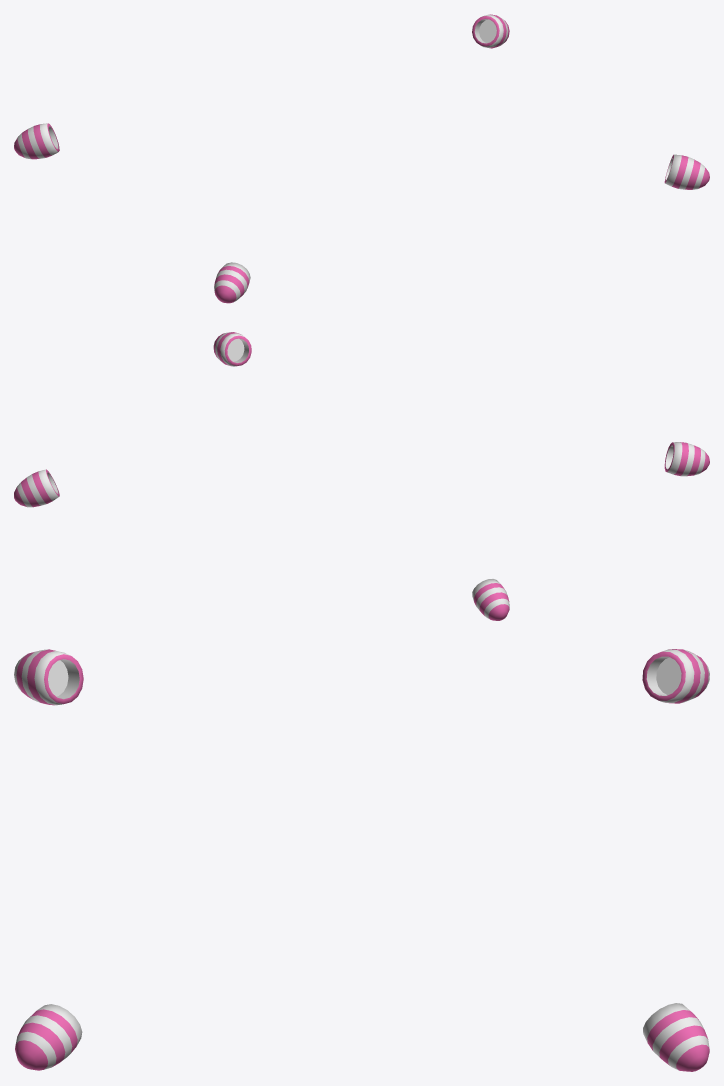
Rendered from M_levelend_lght.fbx.
The picture shows the model from 3 angles, top to bottom: view 1: azimuth 30°, elevation 25°; view 2: azimuth 150°, elevation 25°; view 3: azimuth 270°, elevation 25°; orthographic projection. The views are drawn at different scales.
Parts seen in each view (by area): view 1: Cylinder.010, Cylinder.008, Cylinder.007, Cylinder.009; view 2: Cylinder.007, Cylinder.009, Cylinder.010, Cylinder.008; view 3: Cylinder.009, Cylinder.008, Cylinder.007, Cylinder.010.
Boxes of the visible parts, x1,y1,x2,y2 form: Cylinder.010: (14, 123, 59, 159); Cylinder.008: (664, 154, 709, 189); Cylinder.007: (214, 262, 250, 303); Cylinder.009: (472, 14, 509, 48); Cylinder.007: (664, 442, 709, 476); Cylinder.009: (14, 469, 59, 507); Cylinder.010: (472, 579, 509, 620); Cylinder.008: (213, 332, 251, 366); Cylinder.009: (643, 1003, 709, 1071); Cylinder.008: (15, 1004, 82, 1070); Cylinder.007: (14, 649, 83, 705); Cylinder.010: (642, 649, 709, 703).
Size of the model in its own units: 10.25 by 0.6806 by 7.67.
